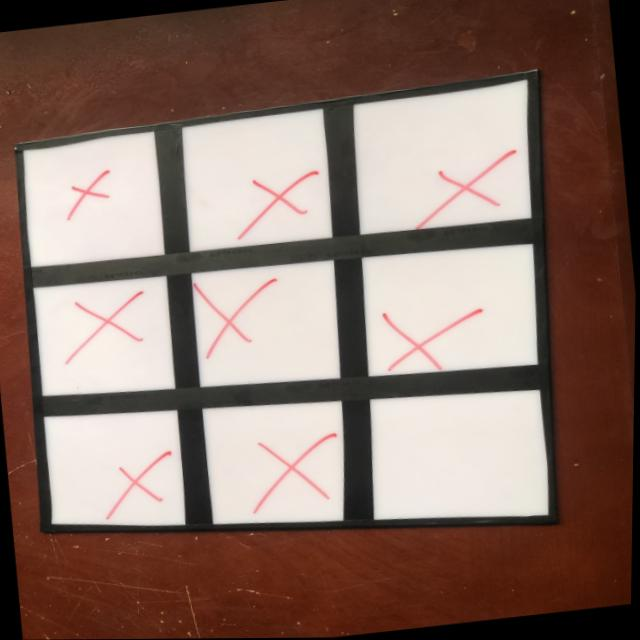null: (369, 389, 549, 526)
table: (15, 70, 557, 549)
x: (411, 148, 521, 230), (52, 288, 154, 372), (248, 422, 341, 513), (377, 299, 488, 375), (198, 275, 280, 362), (95, 442, 182, 516), (234, 170, 323, 241), (59, 169, 116, 219)
